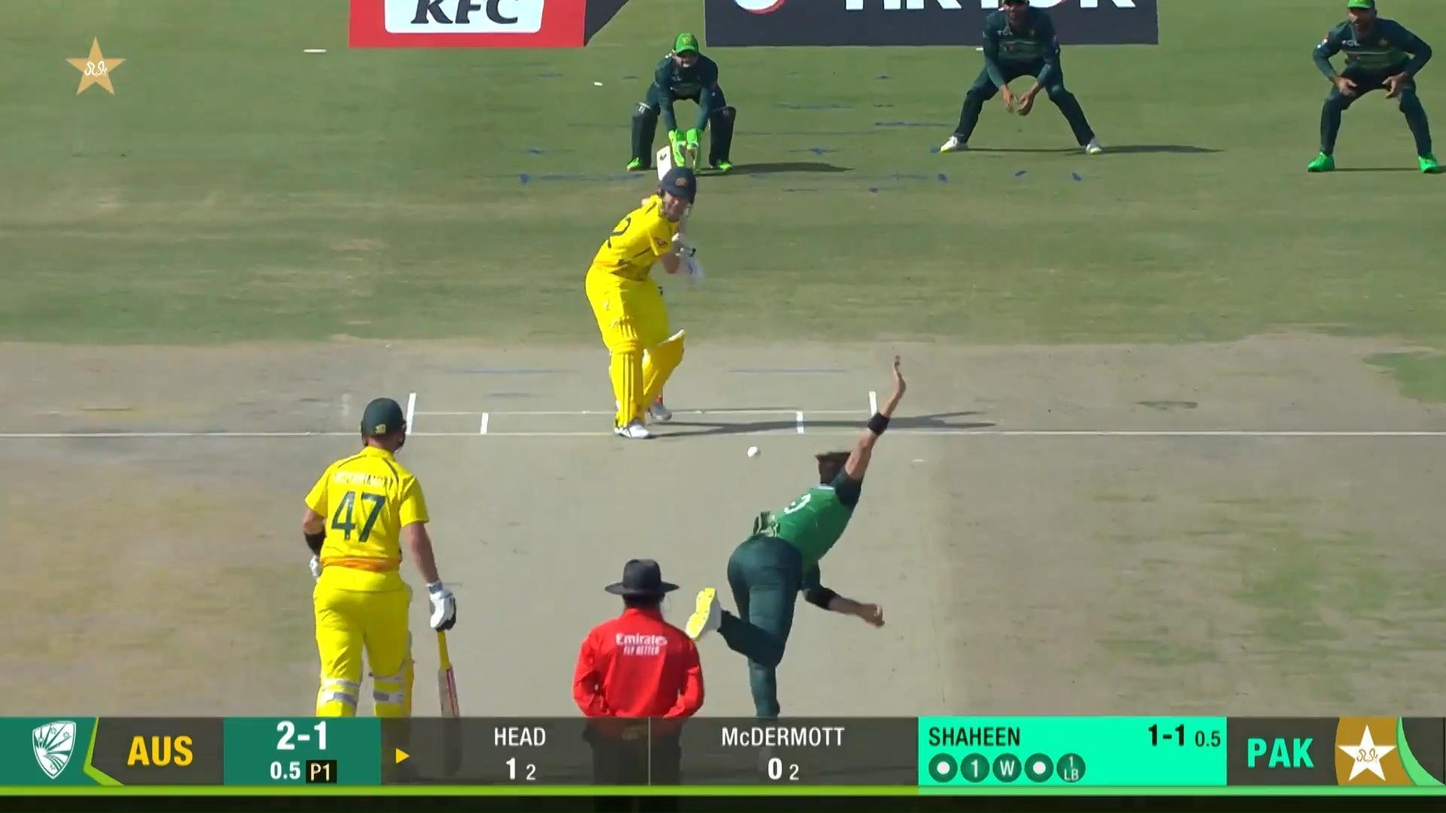BM 1: (585, 146, 703, 439)
BO: (684, 353, 907, 717)
